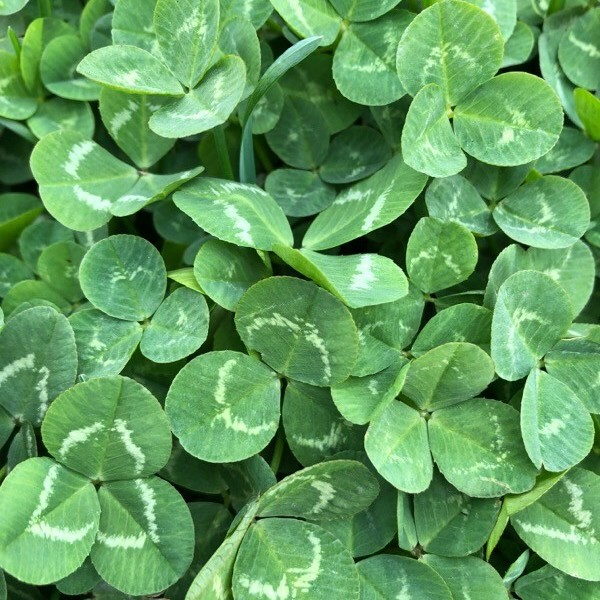obstacle: (13, 14, 560, 569)
